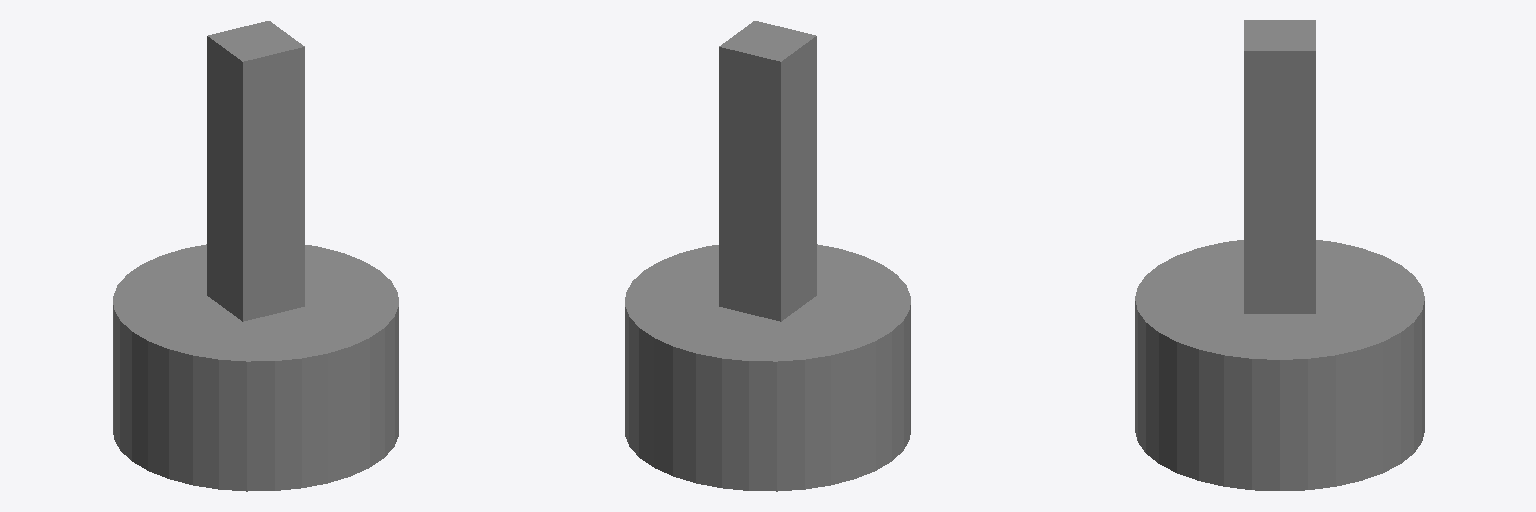
The robot description file, URDF, robot "arm":
<?xml version="1.0"?>
<robot name="arm">
  <material name="grey"><color rgba="0.6 0.6 0.6 1"/></material>
  <link name="base">
    <inertial>
      <origin xyz="0 0 0.05"/>
      <mass value="4.0"/>
      <inertia ixx="0.0233" ixy="0" ixz="0" iyy="0.0233" iyz="0" izz="0.0200"/>
    </inertial>
    <visual><geometry><cylinder radius="0.1" length="0.1"/></geometry><material name="grey"/></visual>
    <collision><geometry><cylinder radius="0.1" length="0.1"/></geometry></collision>
  </link>
  <link name="upper">
    <inertial>
      <origin xyz="0 0 0.15"/>
      <mass value="1.5"/>
      <inertia ixx="0.0127" ixy="0" ixz="0" iyy="0.0127" iyz="0" izz="0.0008"/>
    </inertial>
    <visual><geometry><box size="0.05 0.05 0.3"/></geometry><material name="grey"/></visual>
  </link>
  <link name="fore">
    <inertial>
      <mass value="0.8"/>
      <inertia ixx="0.0042" ixy="0" ixz="0" iyy="0.0042" iyz="0" izz="0.0003"/>
    </inertial>
    <collision><geometry><box size="0.04 0.04 0.25"/></geometry></collision>
  </link>
  <link name="tool"/>
  <joint name="shoulder" type="revolute">
    <parent link="base"/><child link="upper"/>
    <origin xyz="0 0 0.1" rpy="0 0 0"/>
    <axis xyz="0 1 0"/>
    <limit lower="-1.57" upper="1.57" effort="30" velocity="2.0"/>
  </joint>
  <joint name="elbow" type="revolute">
    <parent link="upper"/><child link="fore"/>
    <origin xyz="0 0 0.3"/>
    <axis xyz="0 1 0"/>
    <limit lower="0" upper="2.4" effort="20" velocity="2.5"/>
  </joint>
  <joint name="tool_mount" type="fixed">
    <parent link="fore"/><child link="tool"/>
    <origin xyz="0 0 0.25"/>
  </joint>
</robot>

--- What the picture shows (computed from the rendered views, not written in the file) ---
The picture shows the robot from 3 angles, left to right: view 1: azimuth 30°, elevation 25°; view 2: azimuth 150°, elevation 25°; view 3: azimuth 270°, elevation 25°; orthographic projection.
Robot: arm — 4 links, 3 joints (2 revolute, 1 fixed); root link base; default pose: all joints at 0.
Visible links, largest first — view 1: base, upper; view 2: base, upper; view 3: base, upper.
Boxes of the visible links, box(x1,y1,x2,y2) form: base: box(113, 244, 398, 491); upper: box(207, 21, 304, 321); base: box(625, 244, 910, 491); upper: box(719, 21, 816, 321); base: box(1135, 240, 1424, 490); upper: box(1244, 20, 1315, 313).
Bounding box of the posed robot: 0.2 × 0.2 × 0.3 m (x, y, z).
Geometry: primitives only (box / cylinder / sphere), no mesh files.
